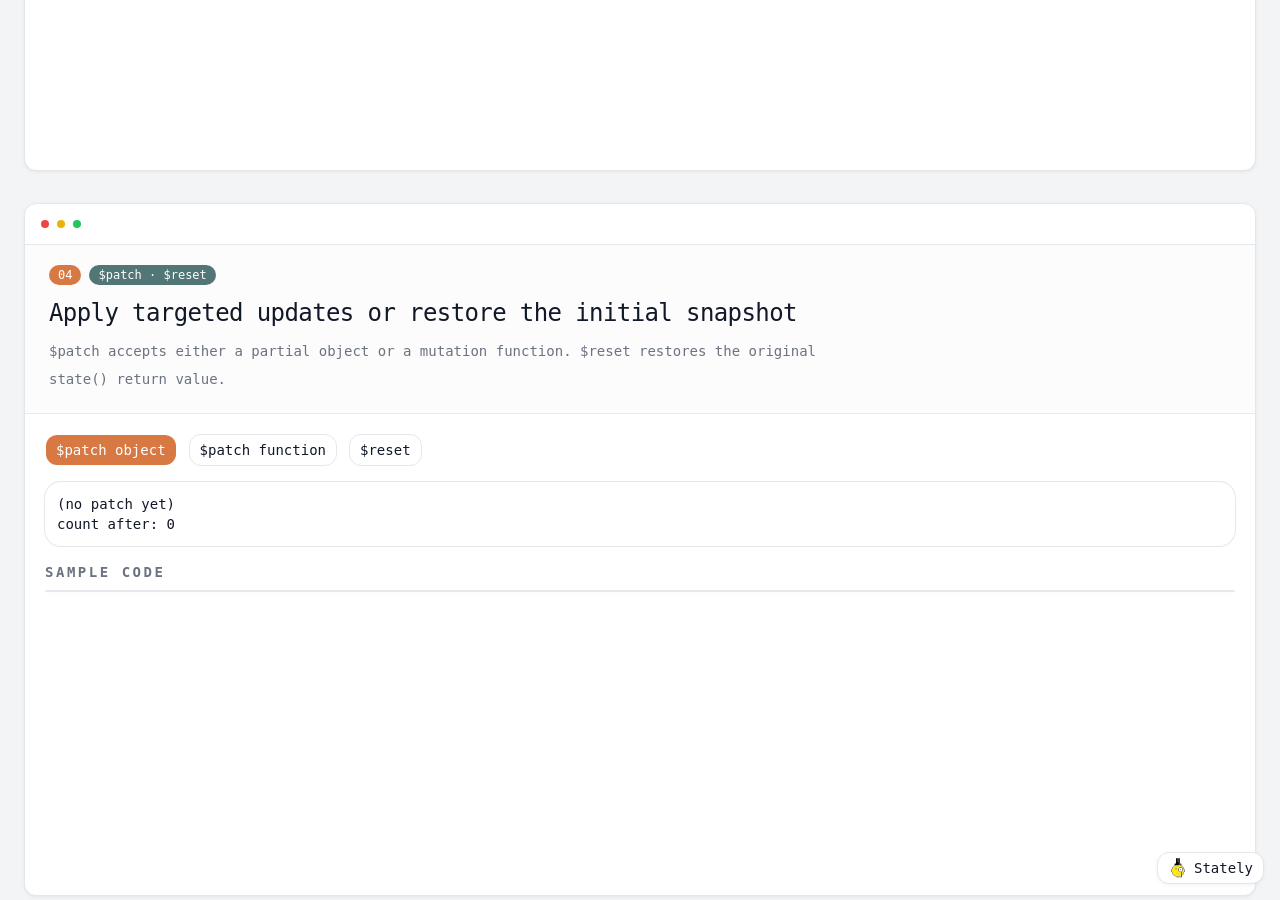
Scenario: core page › $patch object form applies a partial update
(page scrolled)
Step 1. Click the button "$patch object" → click(111, 450), box [45, 434, 177, 466]
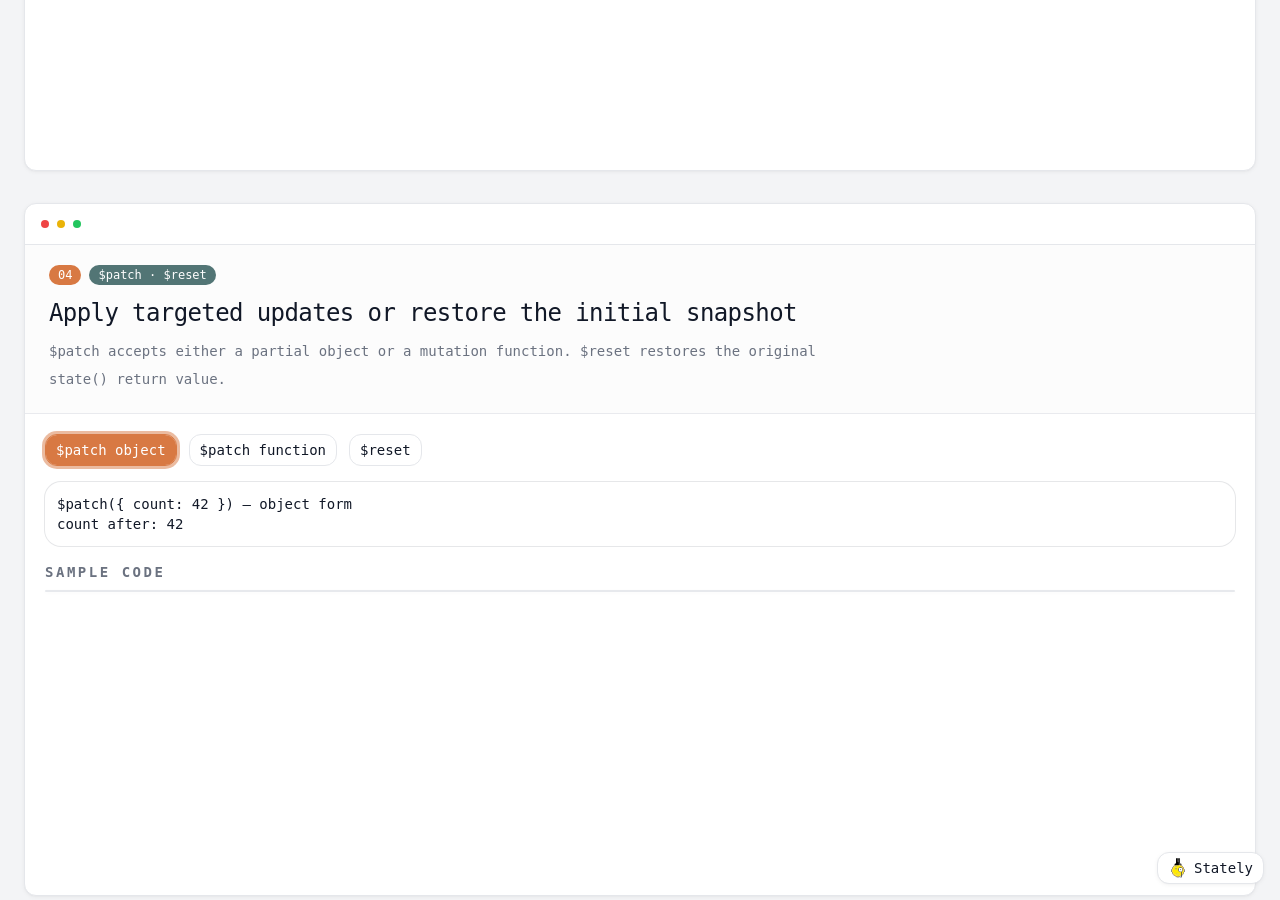
Now the text with test id "core-patch-count" reads "count after: 42", box [57, 516, 183, 532]
Now the text with test id "core-patch-log" reads "$patch({ count: 42 }) — object form", box [57, 496, 352, 512]
